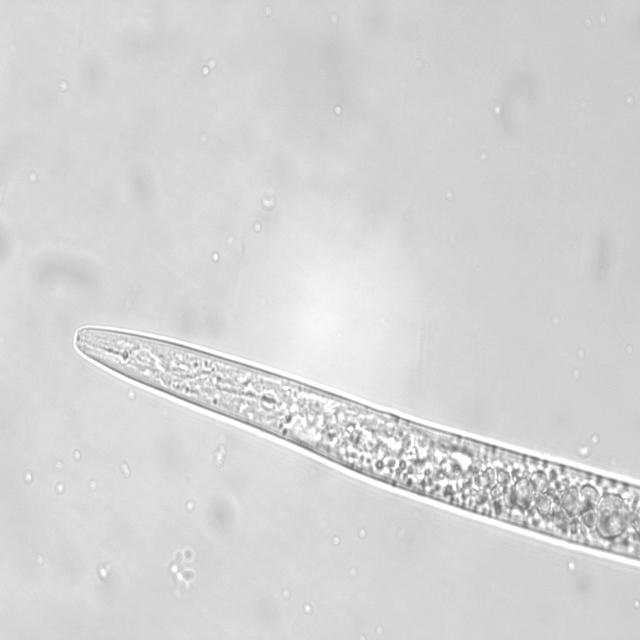Meloidogyne: (67, 324, 640, 572)
